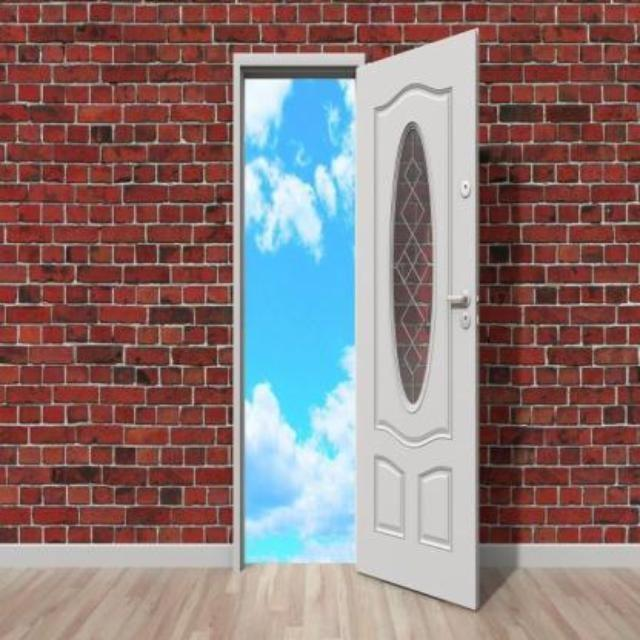door: (354, 26, 480, 610)
